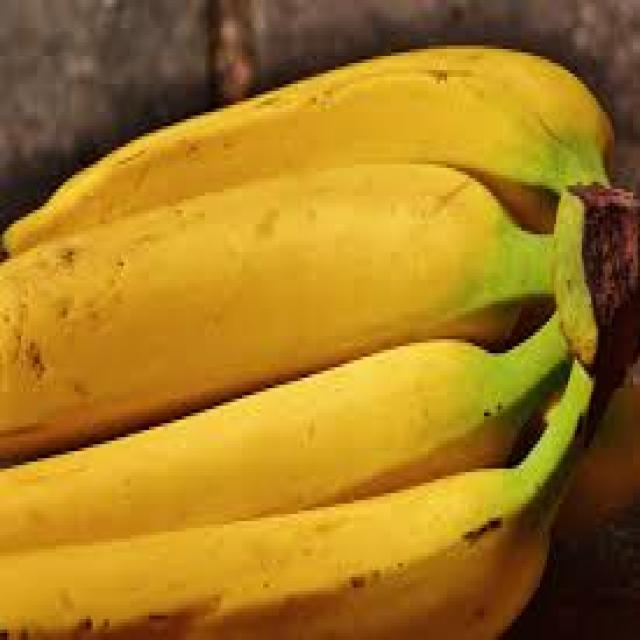Banana: (0, 361, 593, 637), (0, 163, 554, 450), (0, 314, 570, 549), (4, 47, 613, 255)
